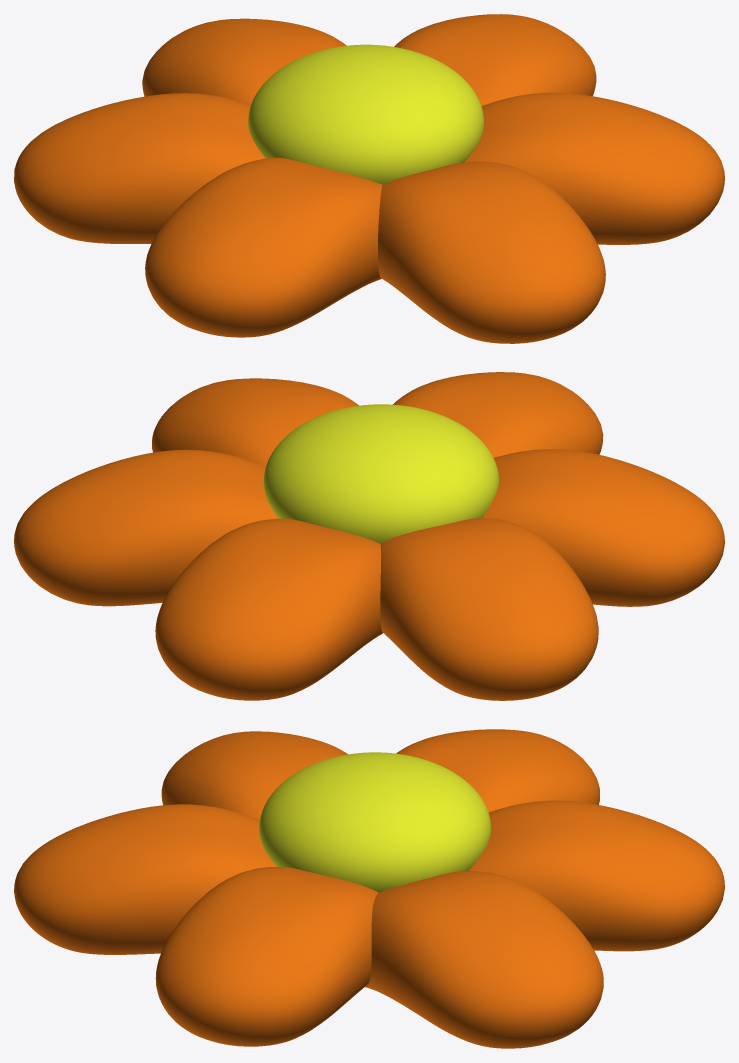
File: kytka.glb
The picture shows the model from 3 angles, top to bottom: view 1: azimuth 30°, elevation 25°; view 2: azimuth 150°, elevation 25°; view 3: azimuth 270°, elevation 25°; orthographic projection.
Visible parts, largest first — view 1: Cube.002, Cube.004, Cube.005, Cube.001, Sphere, Cube.003, Cube; view 2: Cube, Cube.005, Cube.003, Cube.002, Sphere, Cube.004, Cube.001; view 3: Cube.003, Cube.001, Cube.004, Cube, Sphere, Cube.005, Cube.002.
Boxes of the visible parts, x1,y1,x2,y2 form: Cube.002: (145,157,382,337); Cube.004: (378,161,605,343); Cube.005: (14,93,265,243); Cube.001: (465,92,724,244); Sphere: (248,44,483,184); Cube.003: (394,14,596,106); Cube: (142,18,346,104); Cube: (155,518,382,700); Cube.005: (380,518,598,700); Cube.003: (14,449,278,606); Cube.002: (482,449,724,606); Sphere: (263,404,499,543); Cube.004: (393,372,603,457); Cube.001: (152,378,358,466); Cube.003: (365,871,603,1048); Cube.001: (155,867,378,1046); Cube.004: (14,804,276,954); Cube: (469,800,724,951); Sphere: (259,752,490,892); Cube.005: (396,729,599,812); Cube.002: (161,731,347,819).
Bounding box in the file's own units: 5.39 × 1.71 × 6.05.
